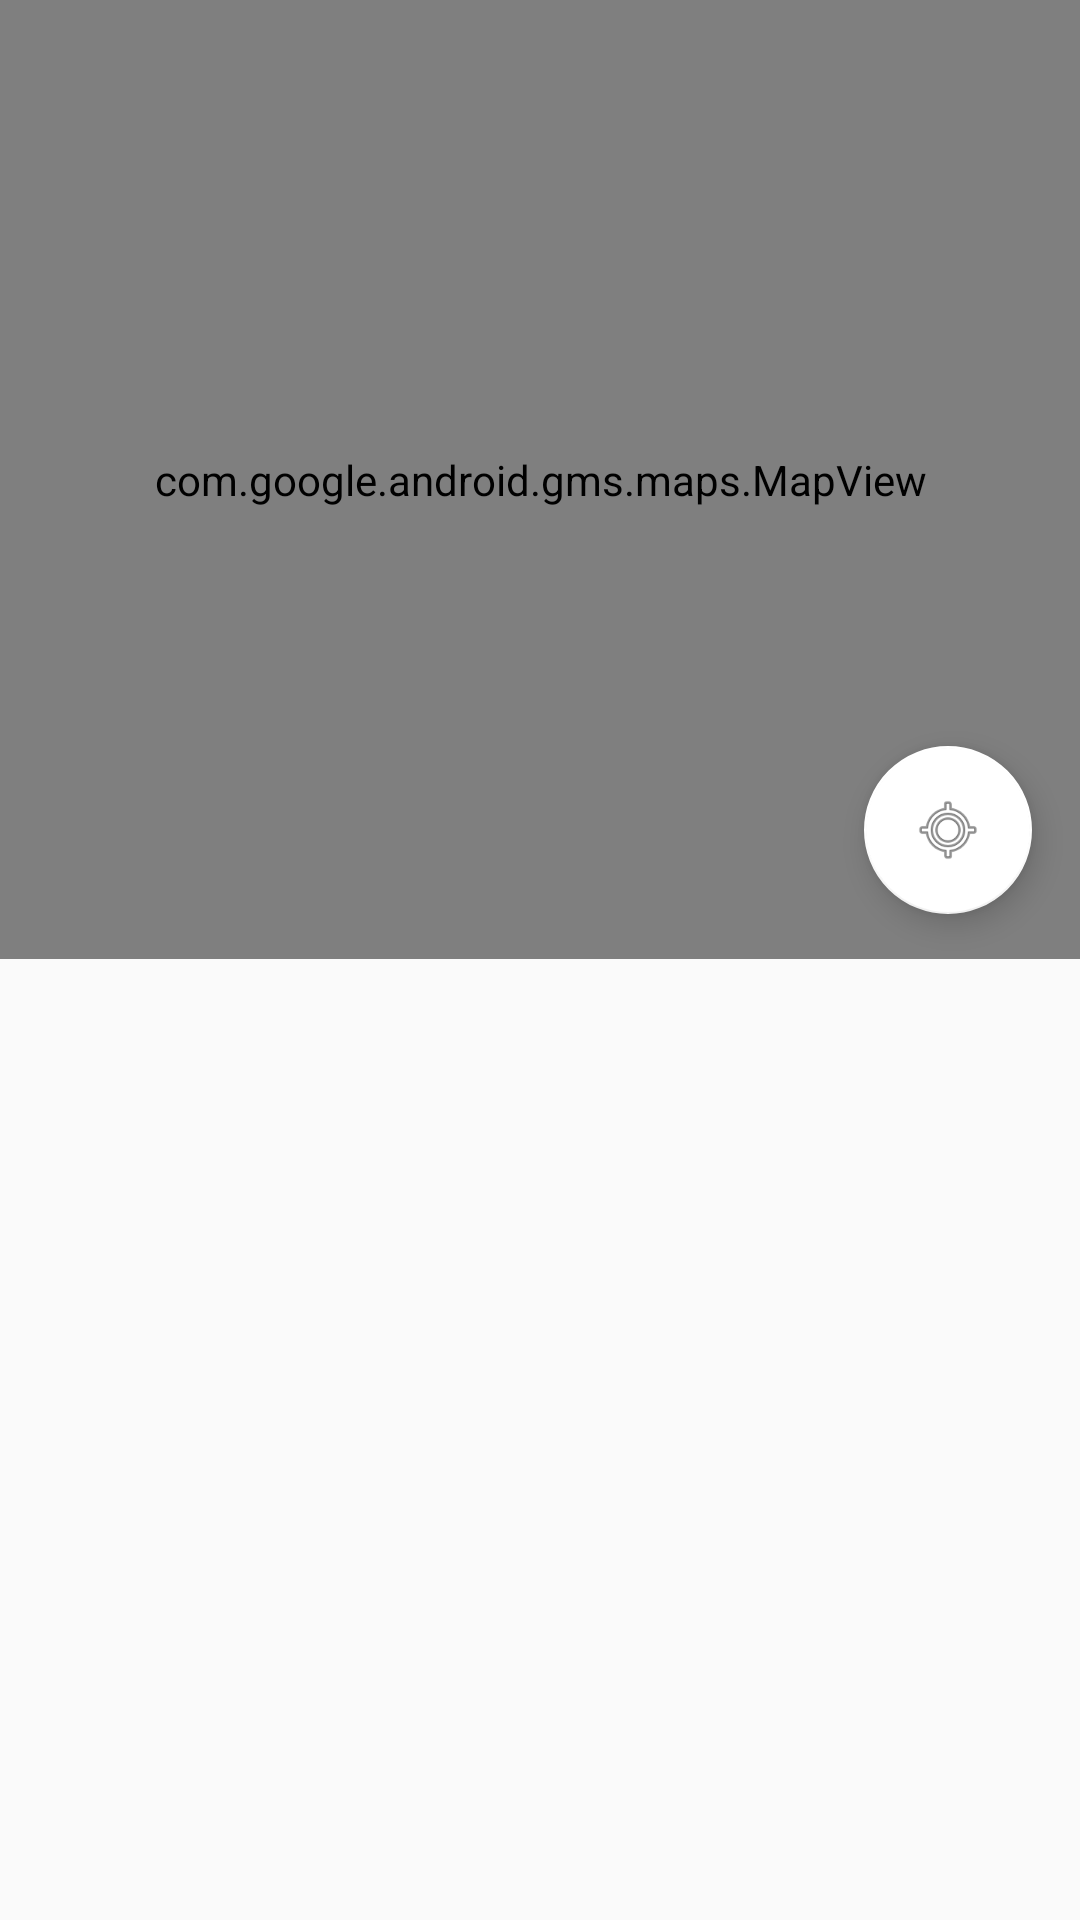

Icon click points for this 1080w x 1920h phone screenshot, format (x,y):
mylocation: (948,830)
